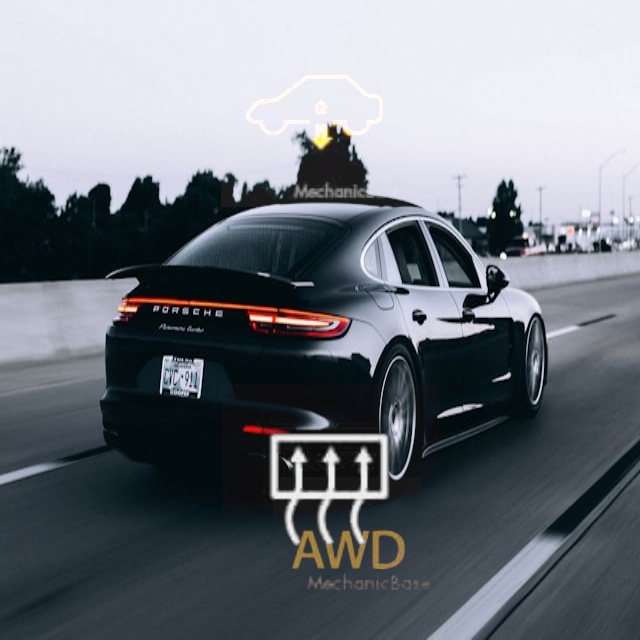symbol: (222, 384, 439, 601), (221, 20, 408, 207), (273, 477, 422, 626)
